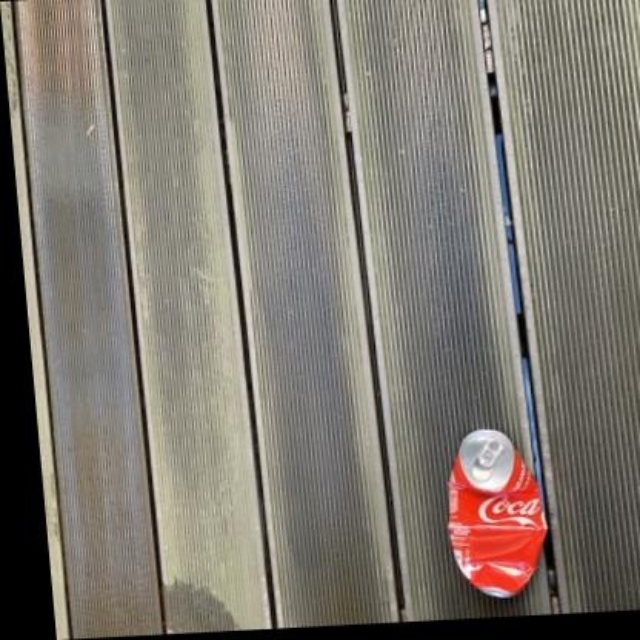trash: (448, 429, 546, 597)
